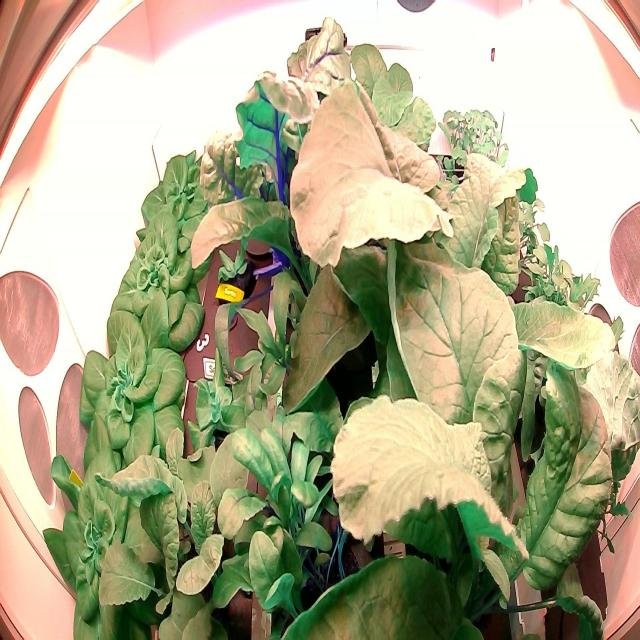young: (68, 296, 194, 499), (39, 446, 161, 639), (100, 199, 208, 359), (182, 328, 258, 462), (136, 137, 218, 250), (208, 228, 262, 320)
